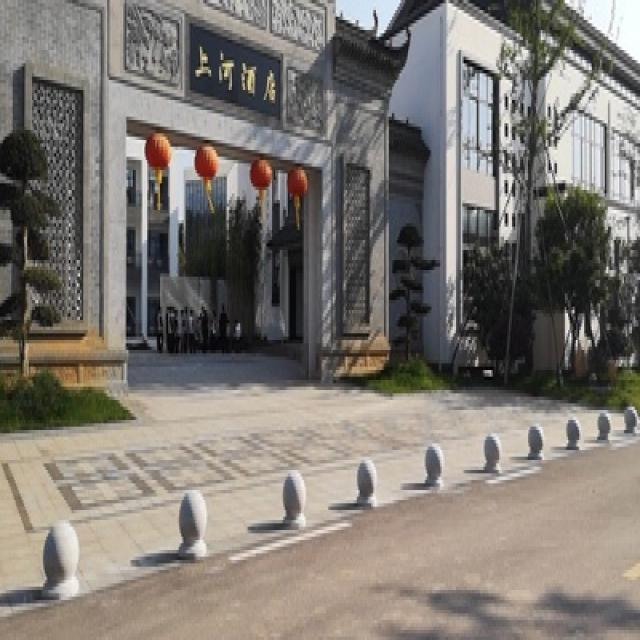spherical_roadblock: (38, 513, 80, 600), (176, 483, 206, 557), (278, 463, 306, 527), (352, 453, 378, 507), (421, 433, 445, 487), (480, 427, 502, 473), (525, 416, 544, 456), (563, 406, 581, 446), (595, 403, 611, 440), (621, 400, 637, 433)
